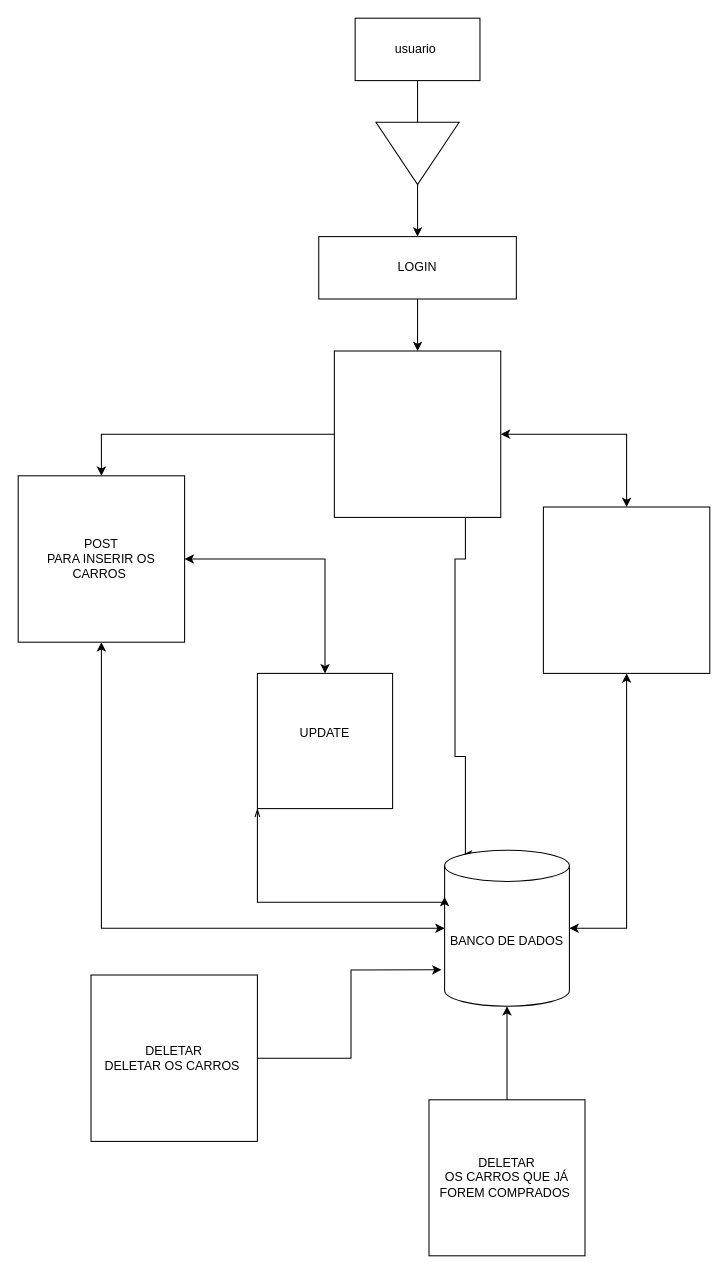
The diagram is 728 pixels wide and 1274 high, and some of its shapes have lost their labels. The box of each missing label's shape, as (x1, y1, x2, y2) in pixels:
A P I: (375, 121, 459, 185)
GET PARA PODER OBSERVAR TODOS OS CARROS: (333, 350, 501, 517)
POST COMPRAR O CARRO: (542, 506, 710, 673)
